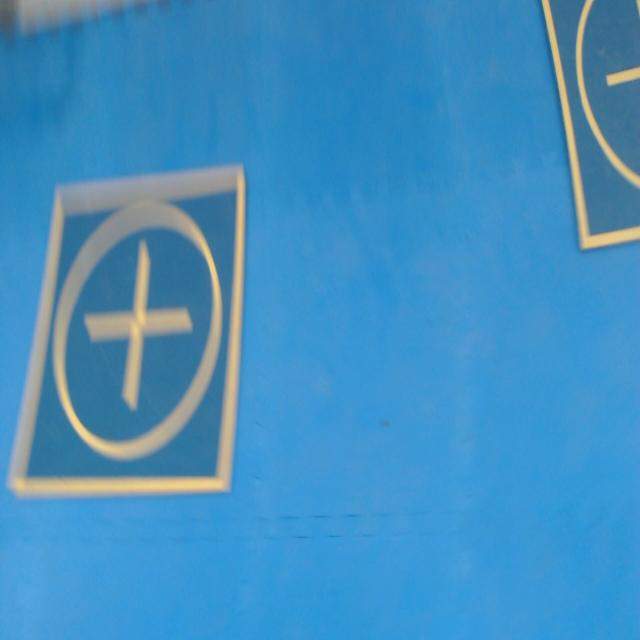base_pouso: (5, 163, 248, 494), (541, 0, 640, 250)
